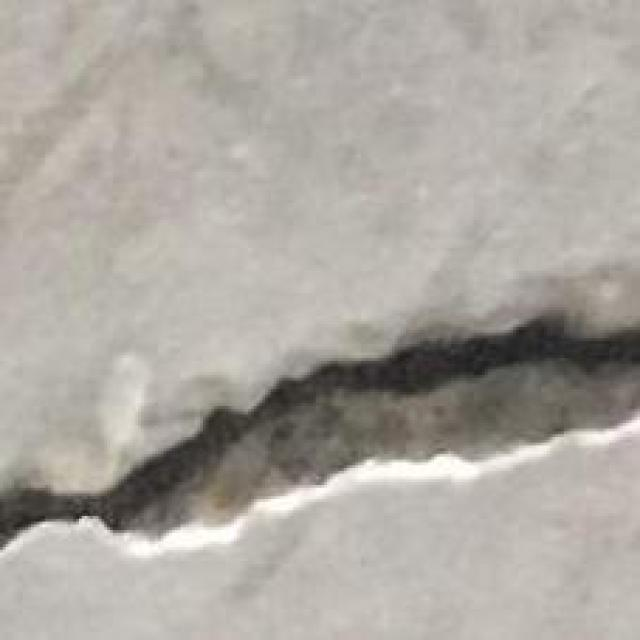diagonal crack: (0, 316, 639, 549)
